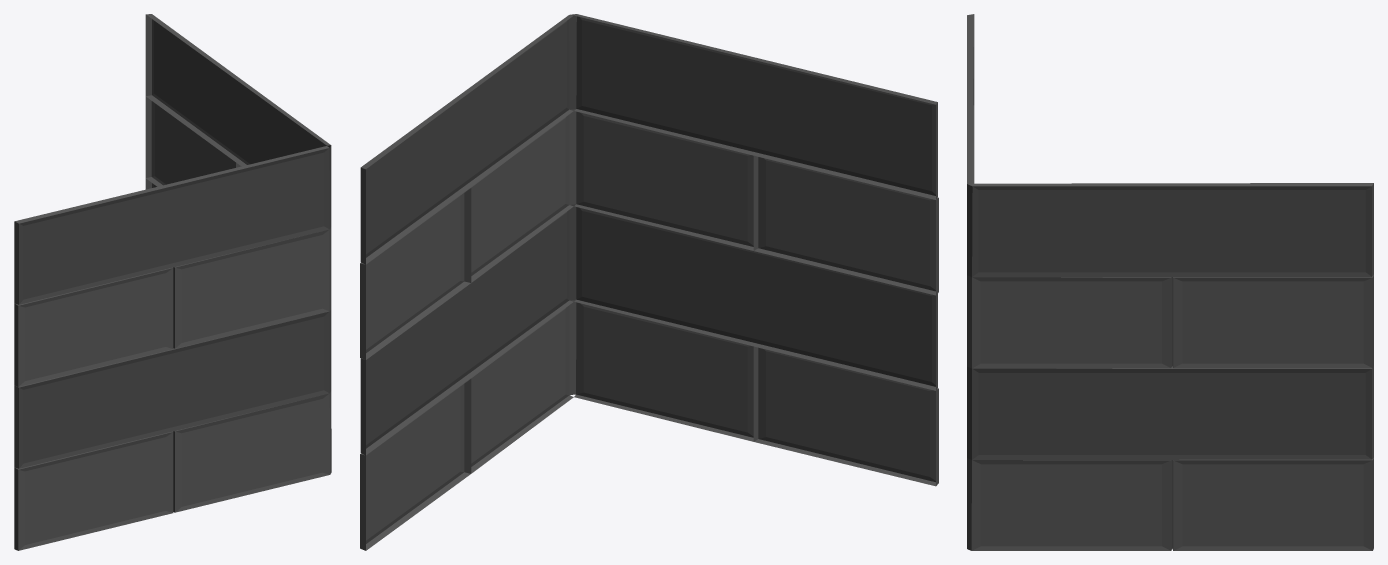
The model's file is Mesh_wall_corner_temple_TL.fbx.
The picture shows the model from 3 angles, left to right: view 1: azimuth 30°, elevation 25°; view 2: azimuth 150°, elevation 25°; view 3: azimuth 270°, elevation 25°; orthographic projection. The views are drawn at different scales.
Parts seen in each view (by area): view 1: Mesh_wall_corner_temple_TL; view 2: Mesh_wall_corner_temple_TL; view 3: Mesh_wall_corner_temple_TL.
Boxes of the visible parts, x1,y1,x2,y2 form: Mesh_wall_corner_temple_TL: (14,14,331,550); Mesh_wall_corner_temple_TL: (360,14,938,550); Mesh_wall_corner_temple_TL: (967,14,1373,550).
Size of the model in its own units: 10.09 by 10 by 10.09.
